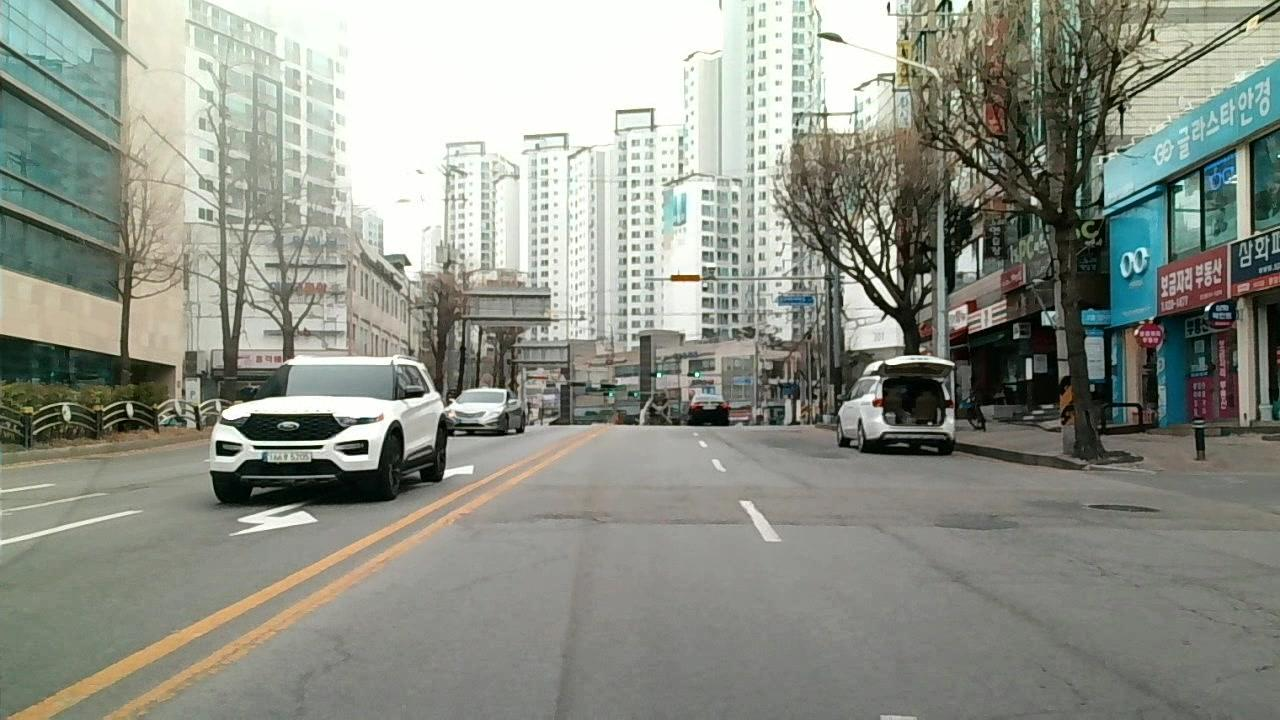hcrack: (635, 516, 799, 532), (479, 513, 609, 531)
vcrack: (1092, 561, 1270, 629), (293, 621, 358, 710)
